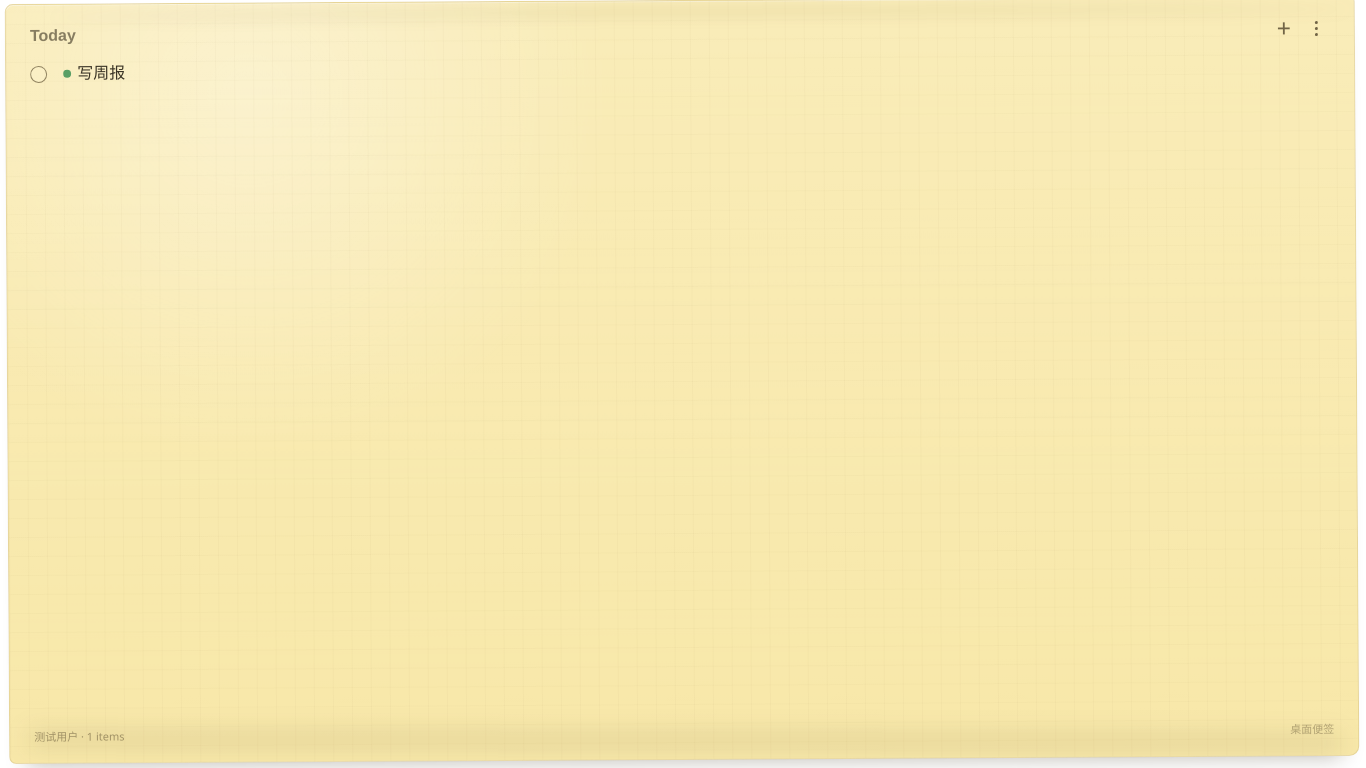
Test case: 桌面便签核心交互 › 完成任务后保留在当前列表并以划线展示
// 画圈完成主操作：弹出完成时间确认（时间默认为不指定 → completedAt 为 null，由后端按当前时刻记录）
Click the button with class "complete-button" at coordinates (39, 74), box left=30, top=66, right=47, bottom=83
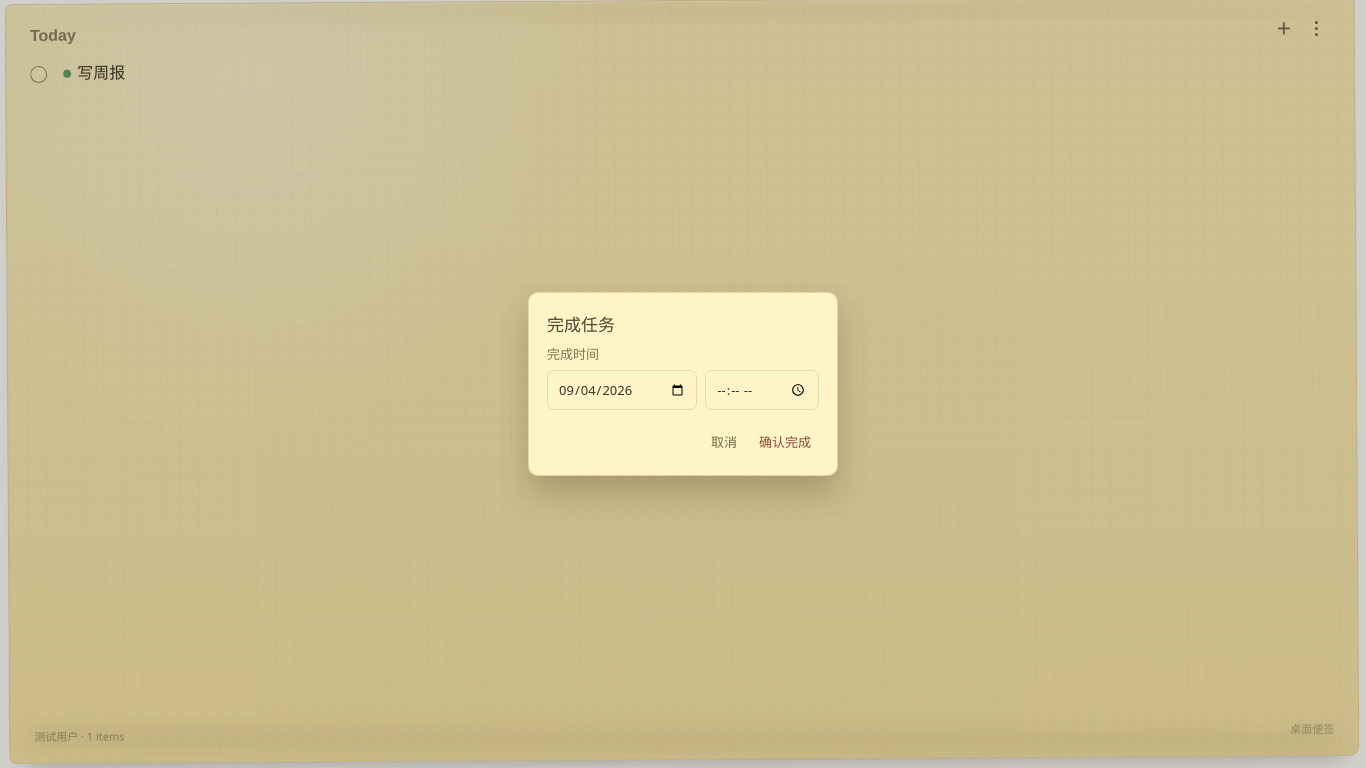
Result: the dialog is shown at left=528, top=292, right=838, bottom=476
Click the button "确认完成" at coordinates (785, 442), box left=751, top=426, right=819, bottom=457
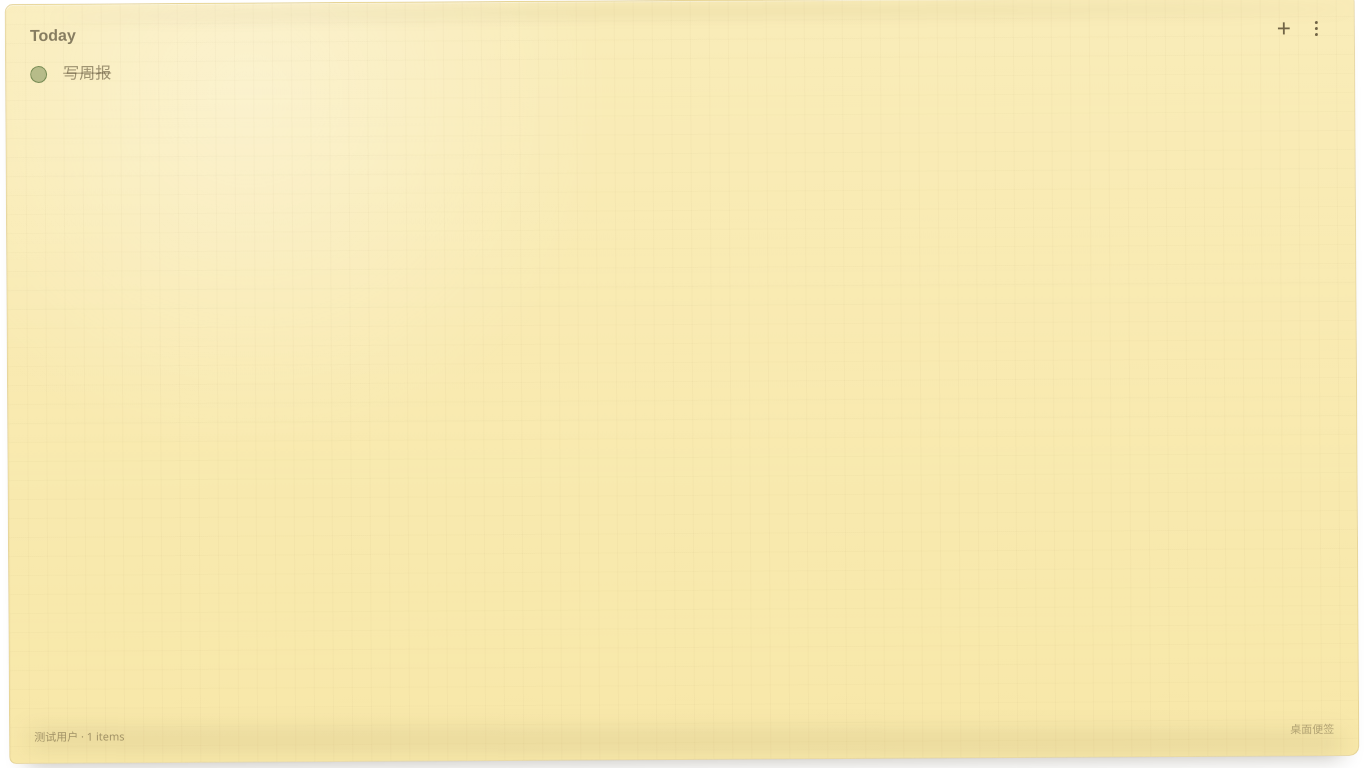
Result: the text "写周报" is shown at left=63, top=62, right=111, bottom=84
Result: the 1st button with class "done" is shown at left=30, top=66, right=47, bottom=83
